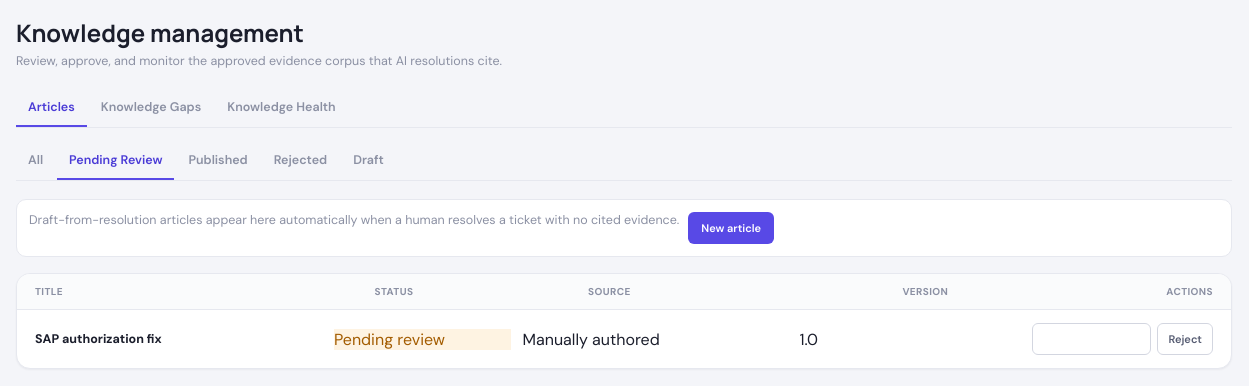
Admin Knowledge navigation › switches to the knowledge-gaps tab and shows a real data-derived signal
Expected: the heading "Knowledge management" is shown, [16,16,304,49]
Click the tab "Knowledge gaps". click: (151, 108)
box: [89,89,213,127]
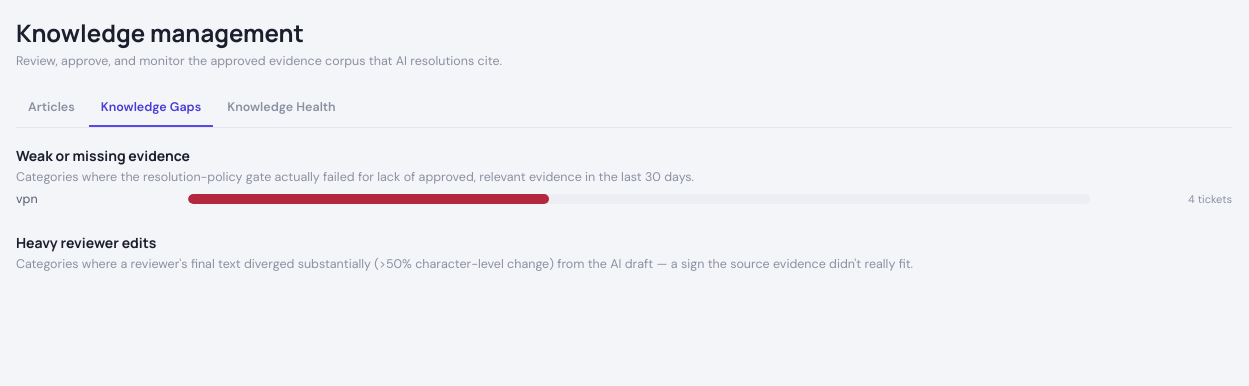
Now the text "vpn" is shown, box [16,191,38,207]
Now the text "4 tickets" is shown, box [1188,192,1232,206]
